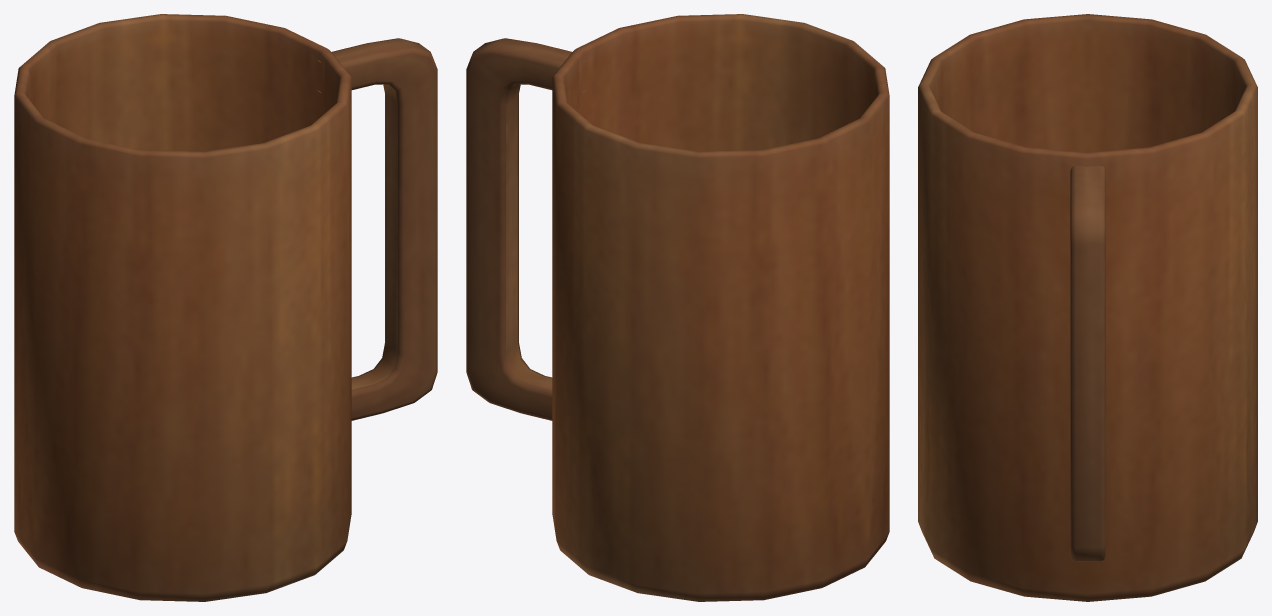
The model's file is GardenTableWear01_1.FBX.
3 views of the same model, side by side, from view 1: azimuth 30°, elevation 25°; view 2: azimuth 150°, elevation 25°; view 3: azimuth 270°, elevation 25° (orthographic).
Parts seen in each view (by area): view 1: GardenTableWear01_1; view 2: GardenTableWear01_1; view 3: GardenTableWear01_1.
Part boxes in pixels (x1=…): GardenTableWear01_1: x1=14, y1=14, x2=437, y2=601; GardenTableWear01_1: x1=466, y1=14, x2=889, y2=601; GardenTableWear01_1: x1=918, y1=14, x2=1257, y2=601.
Size of what is drawn, in the model's own units: 0.1405 by 0.1535 by 0.1049.
